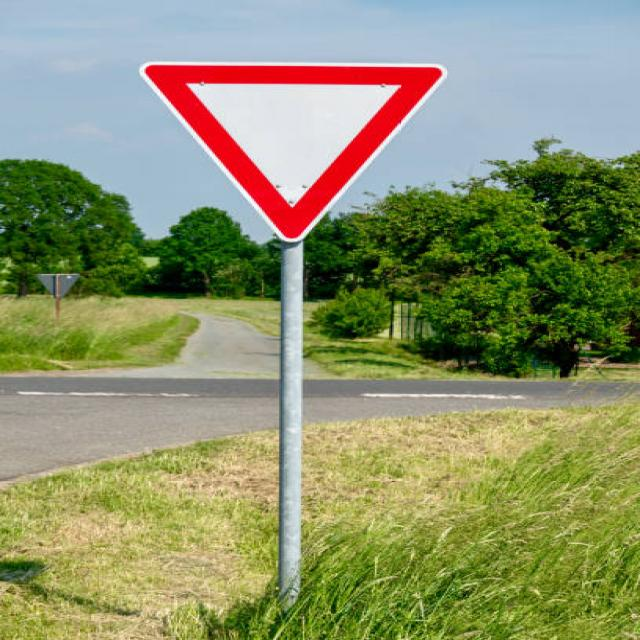give_way: (126, 49, 453, 240)
